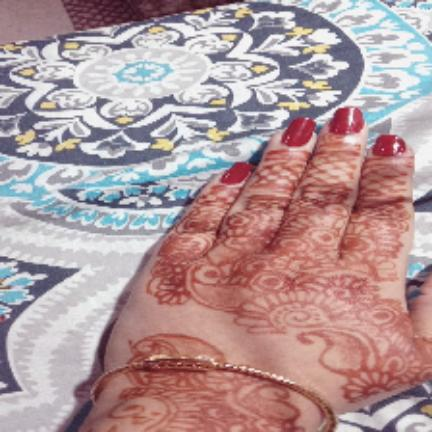Nail: (281, 117, 316, 147), (328, 107, 364, 135), (372, 135, 407, 156), (220, 162, 253, 184)
